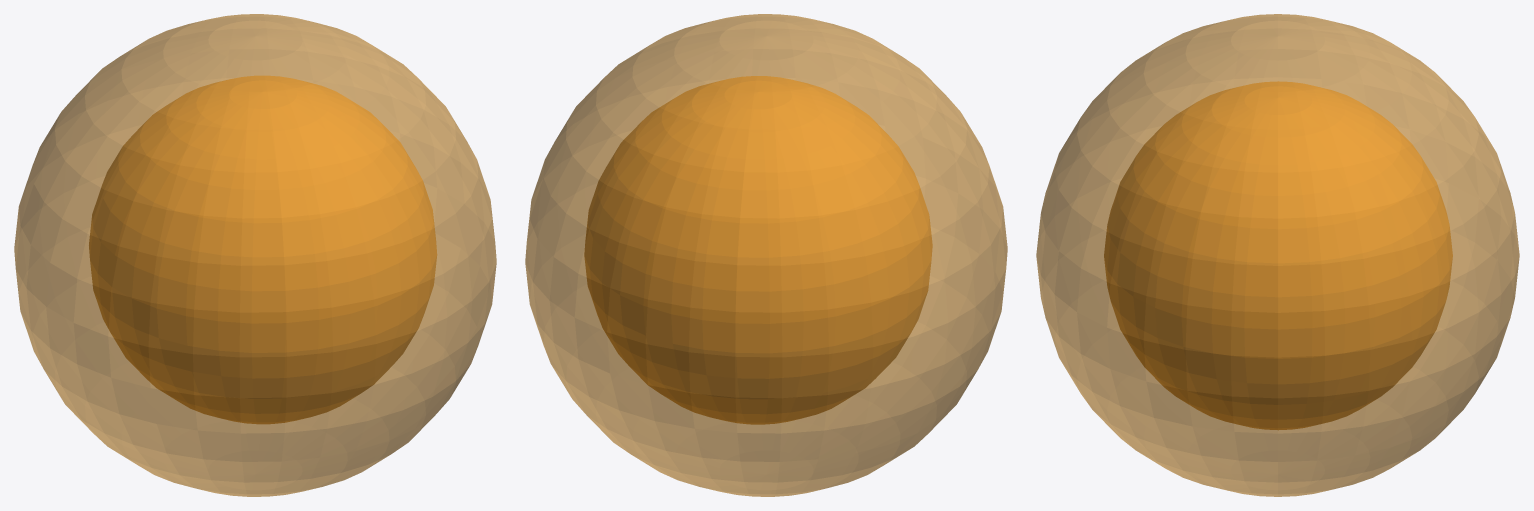
File: basicfireball.fbx
3 renders of one model, left to right at view 1: azimuth 30°, elevation 25°; view 2: azimuth 150°, elevation 25°; view 3: azimuth 270°, elevation 25°, orthographic.
Parts seen in each view (by area): view 1: Sphere; view 2: Sphere; view 3: Sphere.
Part boxes in pixels (left/top/right/bottom): Sphere: left=14, top=14, right=496, bottom=496; Sphere: left=525, top=14, right=1007, bottom=496; Sphere: left=1036, top=14, right=1519, bottom=496.
Bounding box in the file's own units: 200 × 200 × 200.
